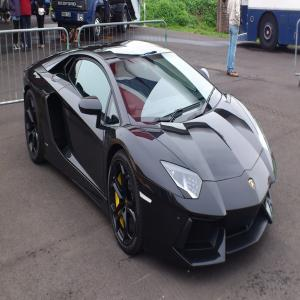Vehicle-registration-plate: (62, 12, 73, 19)
